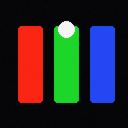2 circle: (58, 21, 74, 37)
